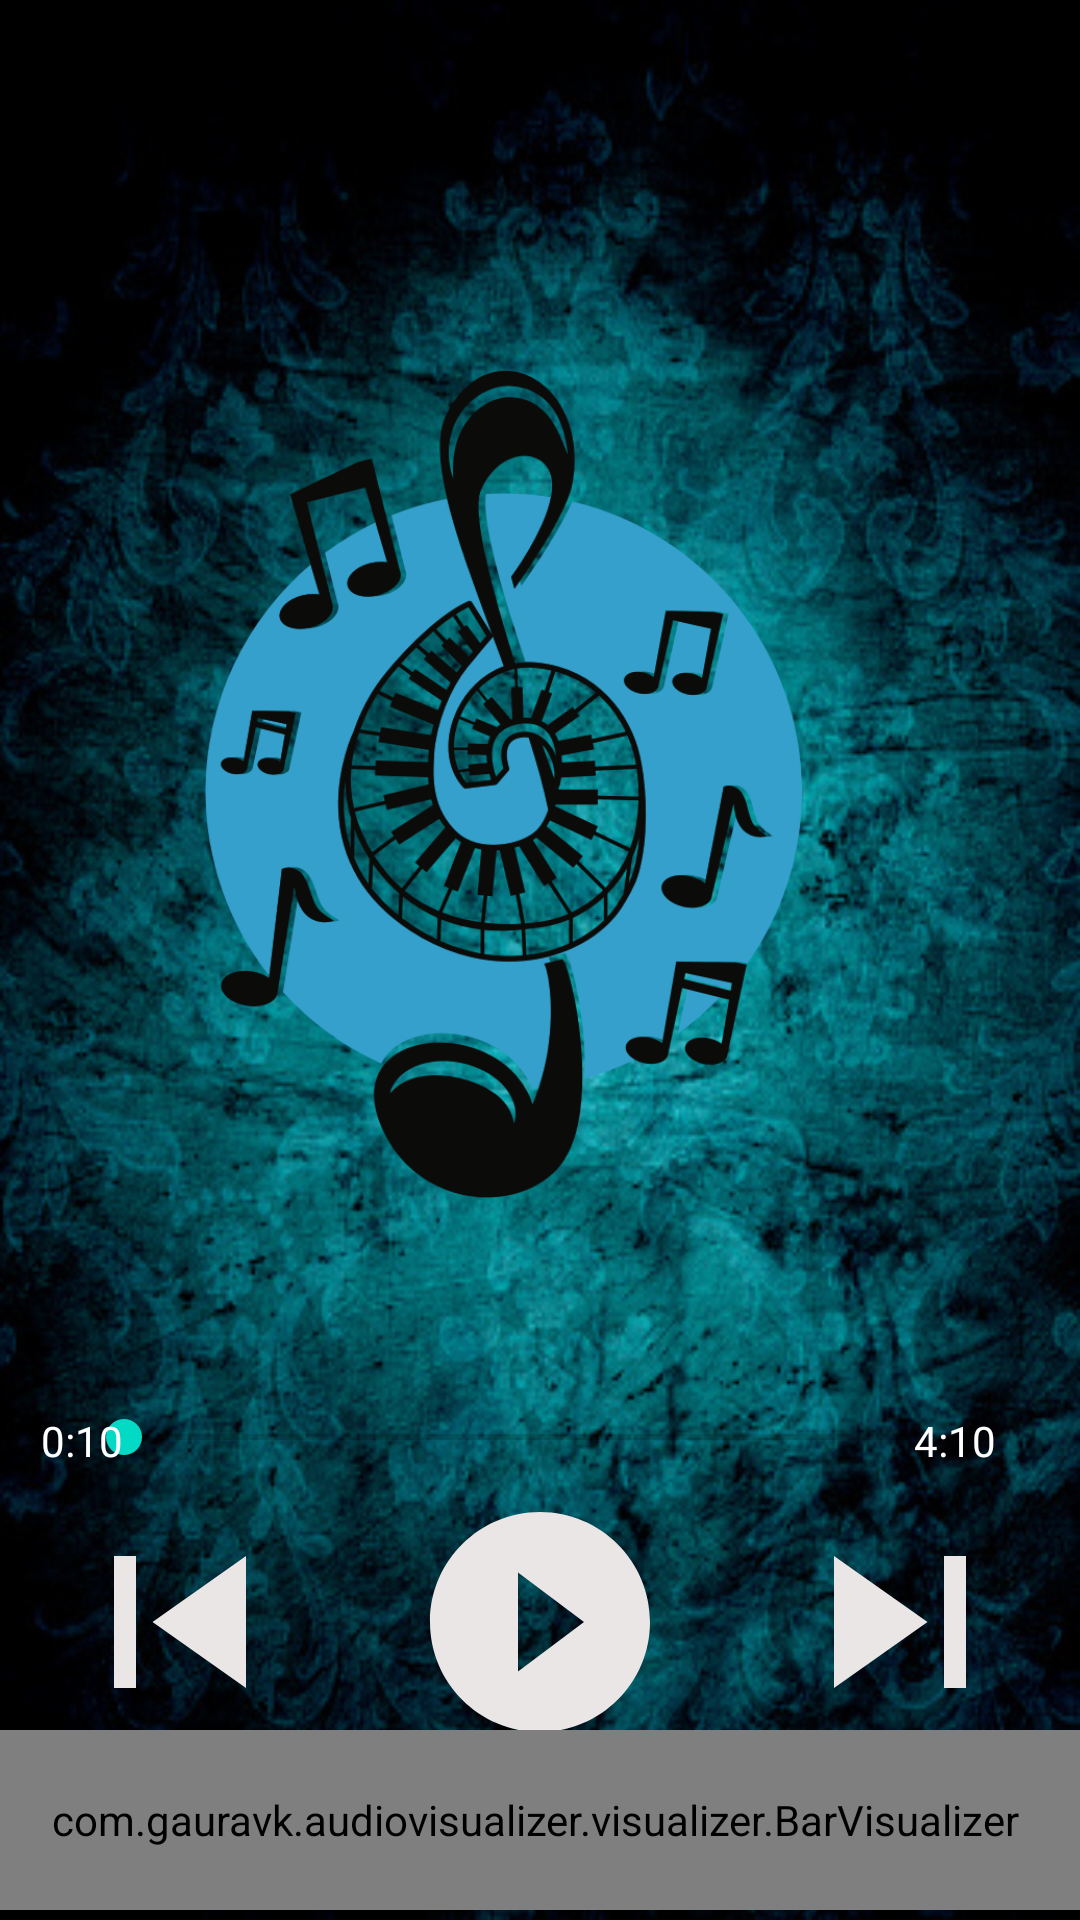

Screen size 1080x1920. Icon name, then its center in pixels as point (x, y):
next: point (900, 1622)
play: point (540, 1622)
previous: point (180, 1622)
